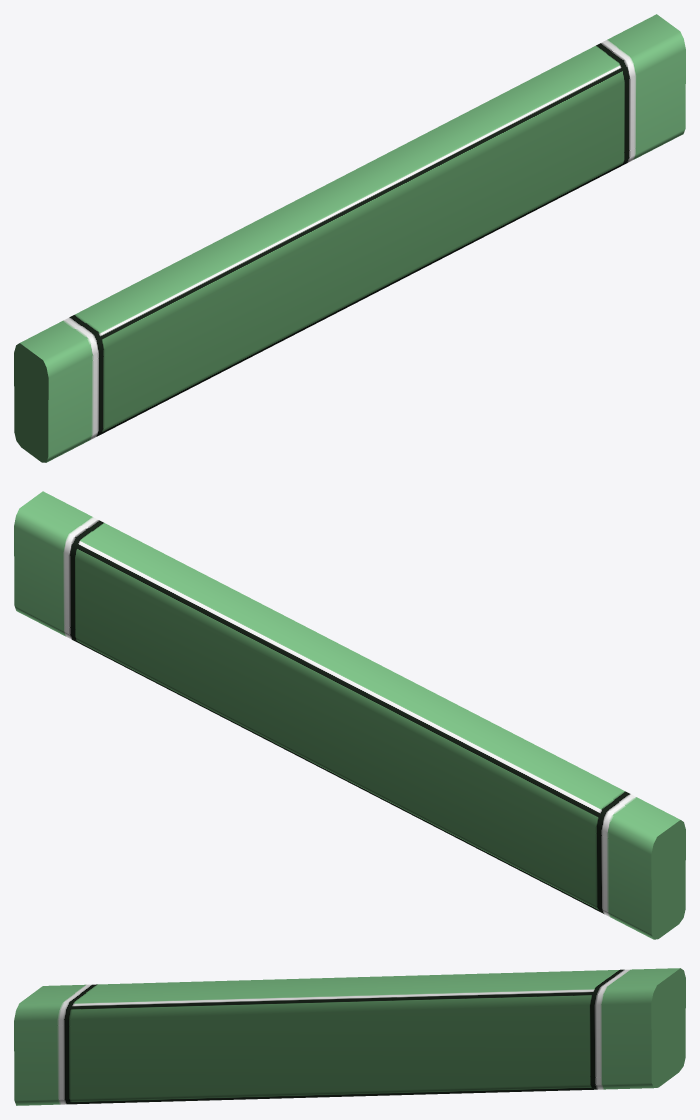
Rendered from SM_R_Beam_19.fbx.
3 renders of one model, top to bottom at view 1: azimuth 30°, elevation 25°; view 2: azimuth 150°, elevation 25°; view 3: azimuth 330°, elevation 25°, orthographic.
Parts seen in each view (by area): view 1: SM_R_Beam_19_LOD0; view 2: SM_R_Beam_19_LOD0; view 3: SM_R_Beam_19_LOD0.
Boxes of the visible parts, x1=… form: SM_R_Beam_19_LOD0: x1=14, y1=14, x2=685, y2=462; SM_R_Beam_19_LOD0: x1=14, y1=491, x2=685, y2=939; SM_R_Beam_19_LOD0: x1=14, y1=968, x2=685, y2=1105.
Size of the model in its own units: 247 by 23.22 by 102.
1 material, 1 textured.
